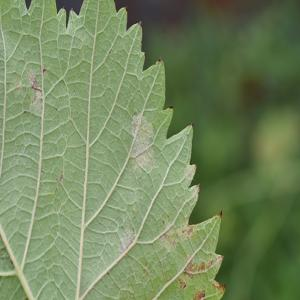Folha: (0, 0, 225, 299)
Fungo: (83, 111, 155, 230), (24, 0, 84, 28), (129, 111, 155, 168), (158, 219, 195, 252), (182, 256, 224, 278), (25, 68, 43, 114), (55, 0, 84, 28), (119, 225, 135, 252), (211, 280, 227, 297), (30, 78, 42, 100), (25, 68, 37, 88), (192, 290, 206, 300), (55, 169, 63, 184), (178, 278, 186, 288), (217, 210, 222, 218), (42, 66, 46, 74)
